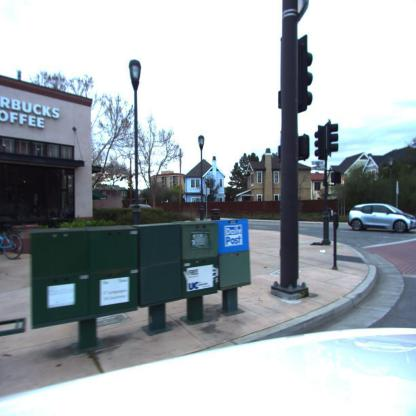bicycle: (0, 222, 23, 261)
car: (347, 204, 416, 233)
traffic light: (296, 37, 314, 111), (314, 125, 328, 161), (328, 123, 340, 156), (298, 134, 310, 161)
